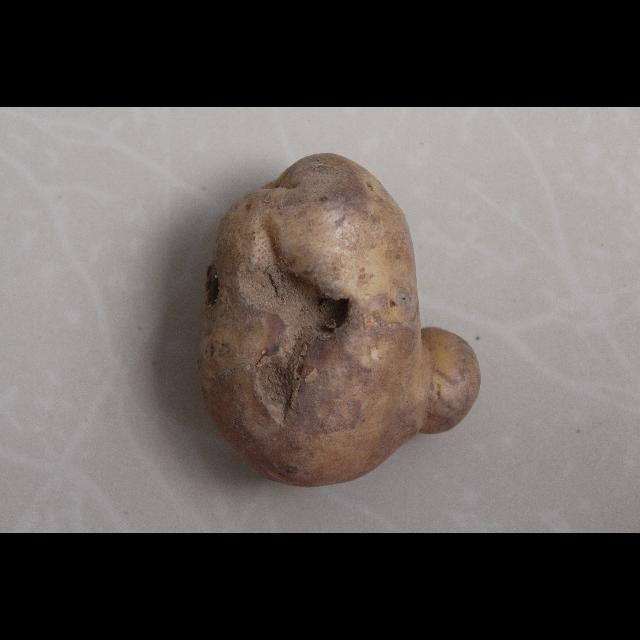Diseased-fungal potato: (195, 150, 483, 492)
